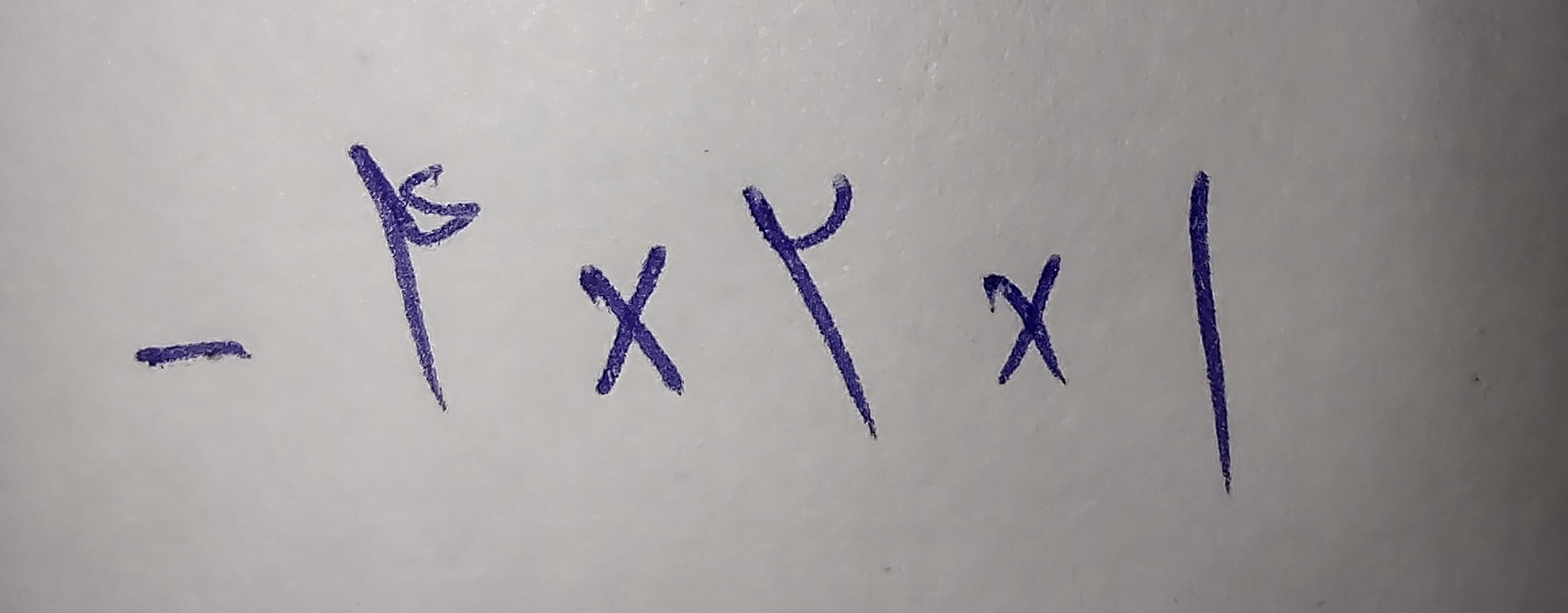character: (744, 172, 880, 440), (349, 144, 480, 415), (581, 244, 688, 396), (1189, 167, 1233, 498), (982, 254, 1069, 388), (134, 338, 252, 369)
